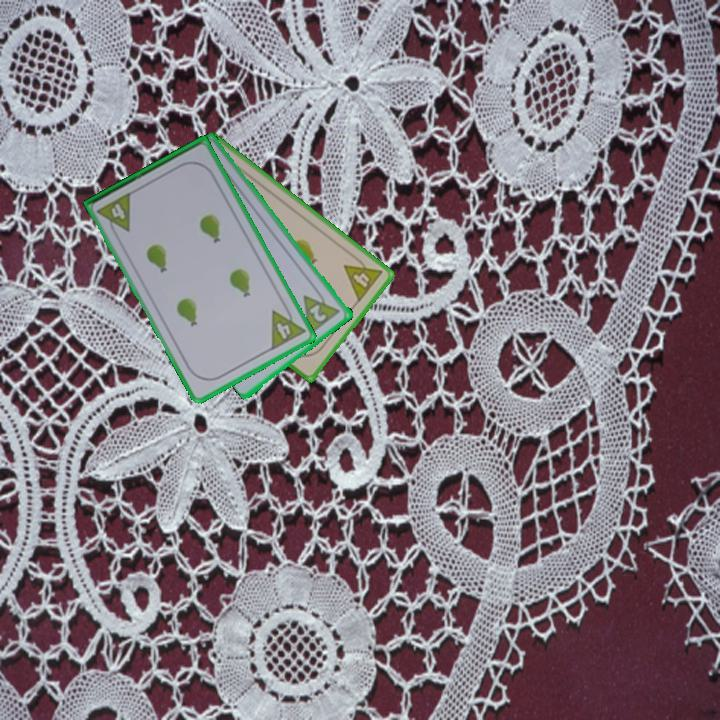2p: (306, 301, 330, 325)
4p: (340, 251, 386, 305), (267, 301, 308, 353), (94, 189, 134, 240)
